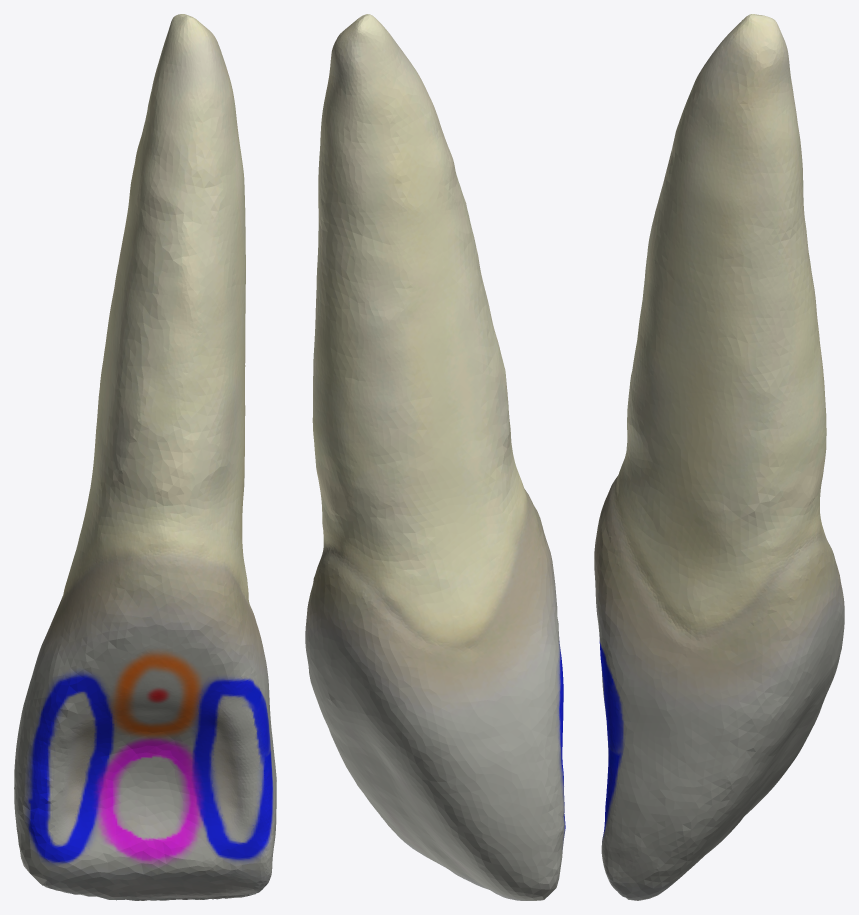
File: 22 -  incisivo lateral superior esquerdo - face palatina.glb
3 views of the same model, side by side, from view 1: azimuth 30°, elevation 25°; view 2: azimuth 150°, elevation 25°; view 3: azimuth 270°, elevation 25° (orthographic). The views are drawn at different scales.
Parts seen in each view (by area): view 1: 3MFMeshParent_0; view 2: 3MFMeshParent_0; view 3: 3MFMeshParent_0.
Part boxes in pixels (<box>): 3MFMeshParent_0: <box>14,14,276,900</box>; 3MFMeshParent_0: <box>305,14,565,900</box>; 3MFMeshParent_0: <box>594,14,844,900</box>.
Size of the model in its own units: 0.1343 by 0.4695 by 0.1201.
1 material, 1 textured.
